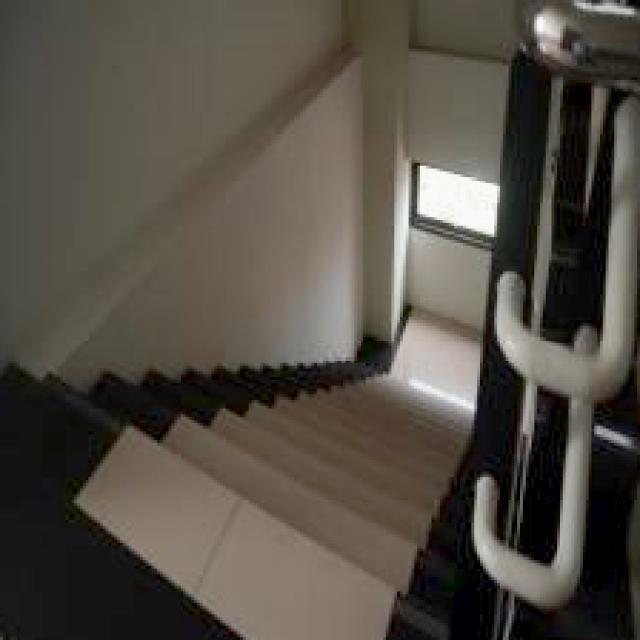downstair: (67, 398, 432, 633)
